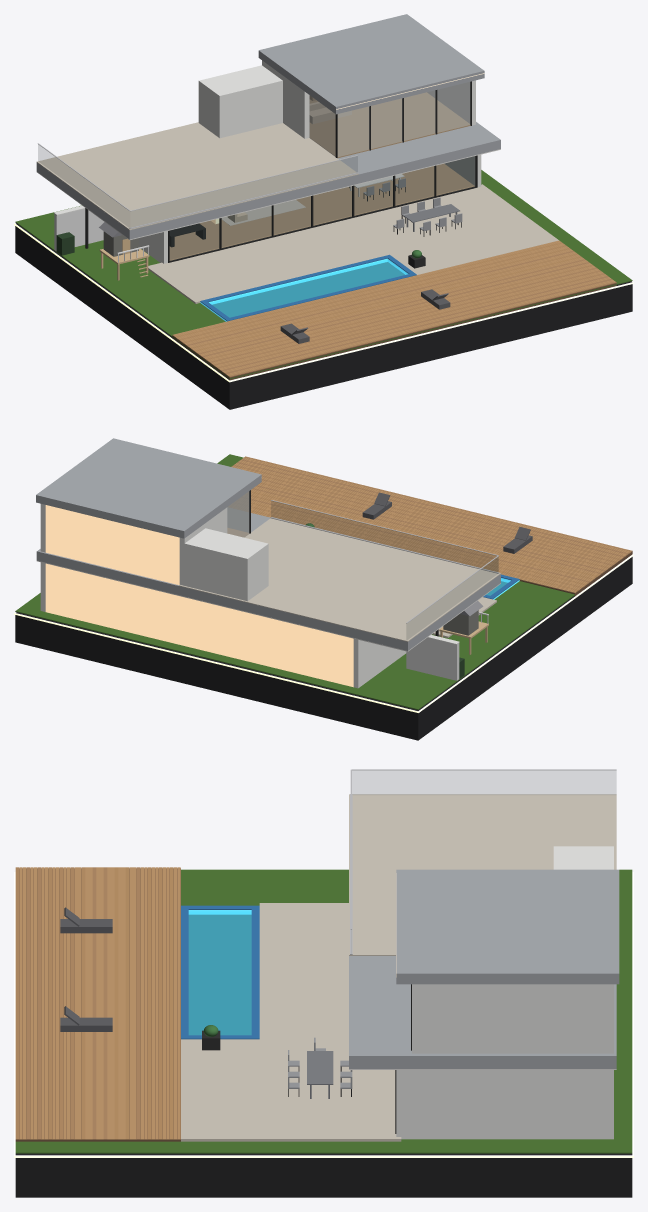
Rendered from villa.glb.
The picture shows the model from 3 angles, top to bottom: view 1: azimuth 30°, elevation 25°; view 2: azimuth 150°, elevation 25°; view 3: azimuth 270°, elevation 25°; orthographic projection. The views are drawn at different scales.
Visible parts, largest first — view 1: Merged_TerraceStone, Plinth, Merged_FasciaRender, Merged_DeckTeak, Merged_FacadeGlass, Merged_OakFloor, Merged_Lawn, Merged_WhiteRender, Merged_FrittedDotGlass, Pool_Water, Merged_AluFrameBlack, Merged_CopingMosaic (+27 smaller); view 2: Merged_InteriorWallWarm, Plinth, Merged_FasciaRender, Merged_TerraceStone, Merged_DeckTeak, Merged_Lawn, Merged_WhiteRender, Merged_FacadeGlass, Garden_Wall_Back, Merged_PlinthBrass, Merged_SteelRail, Merged_LoungerGray (+18 smaller); view 3: Merged_TerraceStone, Merged_FasciaRender, Plinth, Merged_DeckTeak, Merged_WhiteRender, Merged_Lawn, Merged_Walnut, Pool_Water, Merged_FacadeGlass, Merged_PlinthBrass, Merged_CopingMosaic, Merged_LoungerGray (+18 smaller).
Part boxes in pixels (x1,y1,x2,y2): Merged_TerraceStone: (37,122,558,303); Plinth: (15,223,632,409); Merged_FasciaRender: (36,14,500,239); Merged_DeckTeak: (172,240,614,376); Merged_FacadeGlass: (38,145,475,260); Merged_OakFloor: (169,92,474,260); Merged_Lawn: (15,170,632,379); Merged_WhiteRender: (54,60,481,263); Merged_FrittedDotGlass: (309,82,470,156); Pool_Water: (210,259,407,317); Merged_AluFrameBlack: (85,81,477,262); Merged_CopingMosaic: (200,254,416,321); Merged_InteriorWallWarm: (45,505,353,687); Plinth: (15,557,632,740); Merged_FasciaRender: (36,438,500,650); Merged_TerraceStone: (179,518,500,641); Merged_DeckTeak: (229,457,630,593); Merged_Lawn: (15,454,574,709); Merged_WhiteRender: (40,504,459,688); Merged_FacadeGlass: (271,501,498,639); Garden_Wall_Back: (406,637,459,680); Merged_PlinthBrass: (14,554,633,712); Merged_SteelRail: (270,500,499,623); Merged_LoungerGray: (362,492,532,553); Merged_TerraceStone: (181,794,616,1141); Merged_FasciaRender: (349,869,619,1068); Plinth: (15,915,632,1197); Merged_DeckTeak: (19,867,180,1139); Merged_WhiteRender: (396,846,613,1139); Merged_Lawn: (15,869,632,1153); Merged_Walnut: (15,868,180,1141); Pool_Water: (188,911,251,1035); Merged_FacadeGlass: (352,771,615,794); Merged_PlinthBrass: (14,872,633,1157); Merged_CopingMosaic: (181,905,259,1039); Merged_LoungerGray: (60,907,112,1031).
Size of the model in its own units: 25.62 by 8.95 by 23.62.
